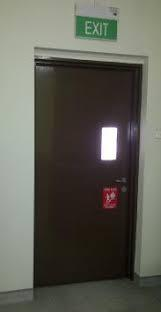exit: (36, 62, 141, 287)
unlit_exit_sign: (76, 16, 117, 42)
